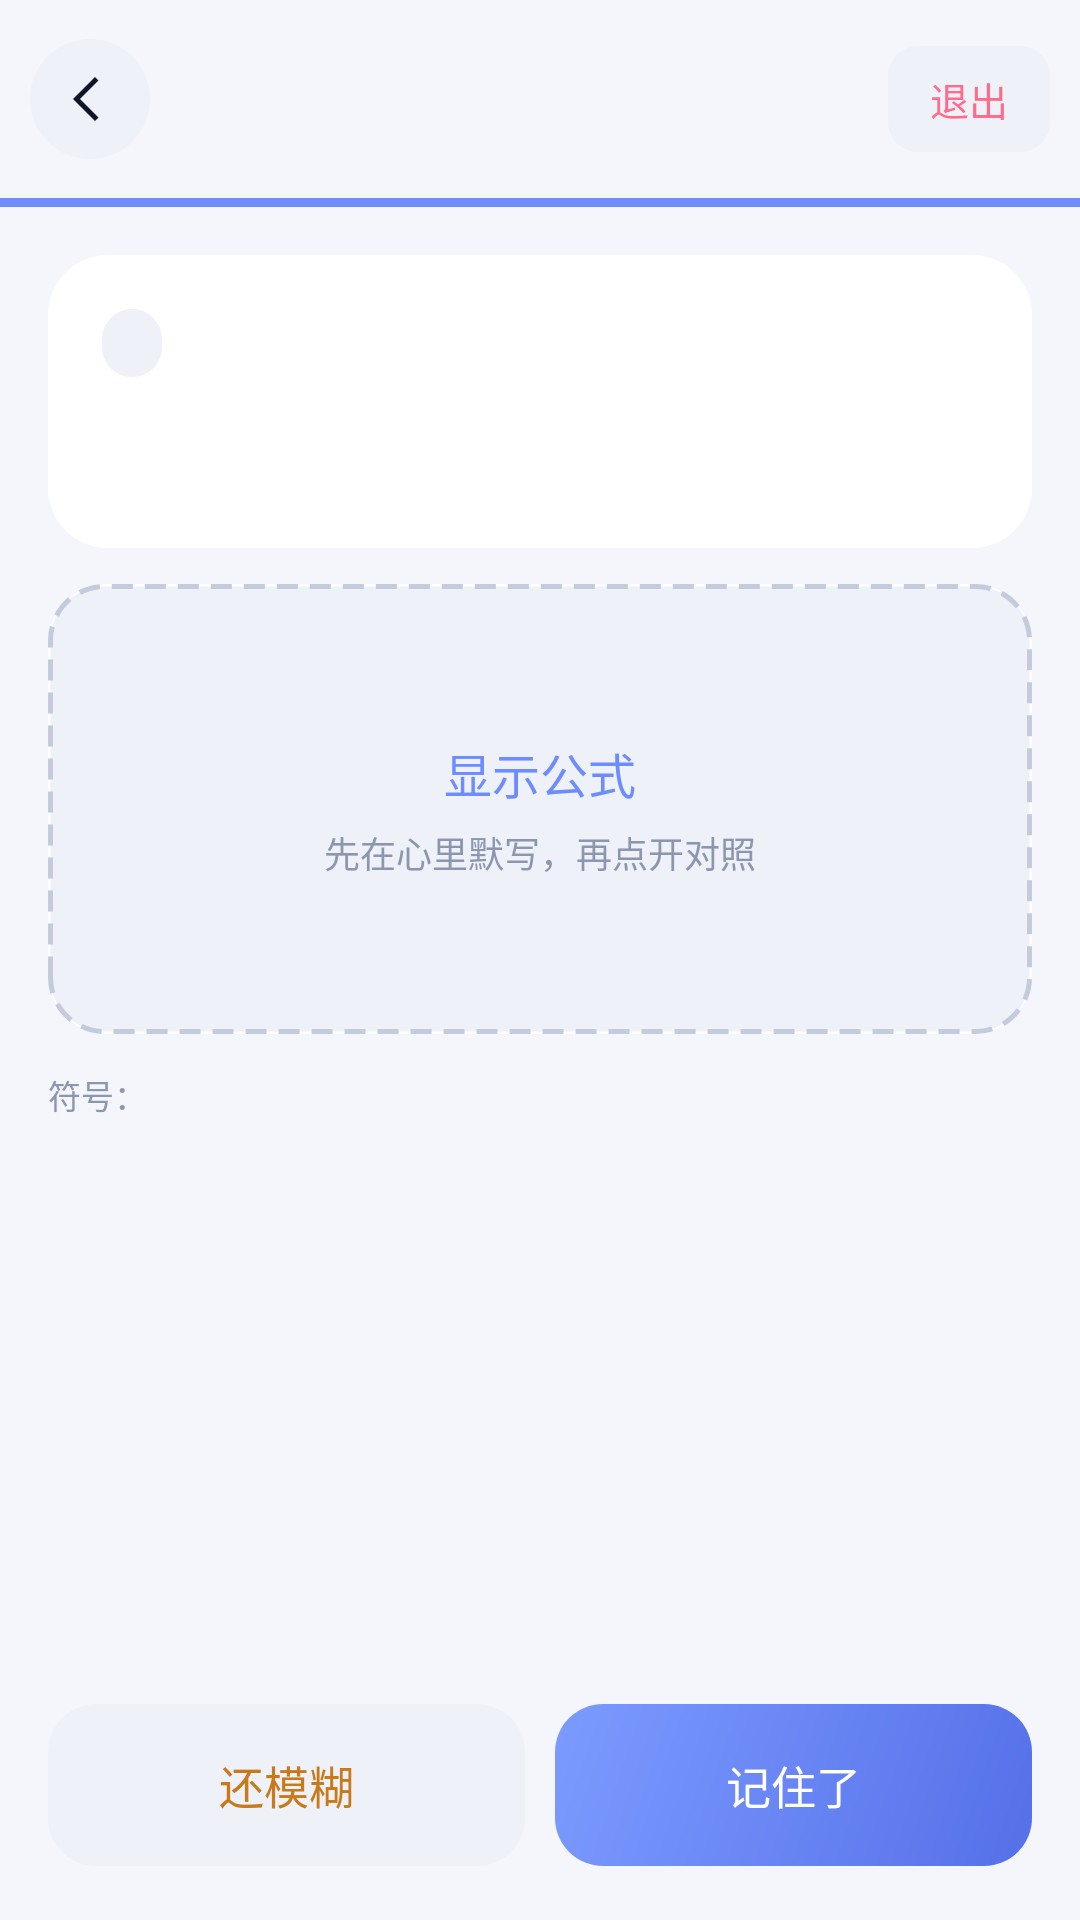

Icons on this 1080×1920 Android screen, each with the point to tap as (x,y):
返回: (86,99)
